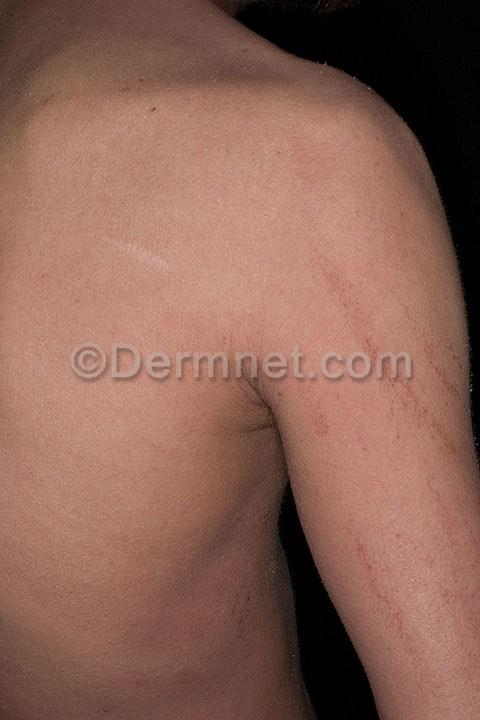eritema 1: (271, 297, 479, 719), (136, 461, 319, 719)
exudacion 1: (319, 255, 463, 458), (350, 538, 431, 674), (418, 360, 461, 405), (226, 586, 251, 640)
xerosis 1: (248, 31, 378, 99), (459, 337, 479, 475)
